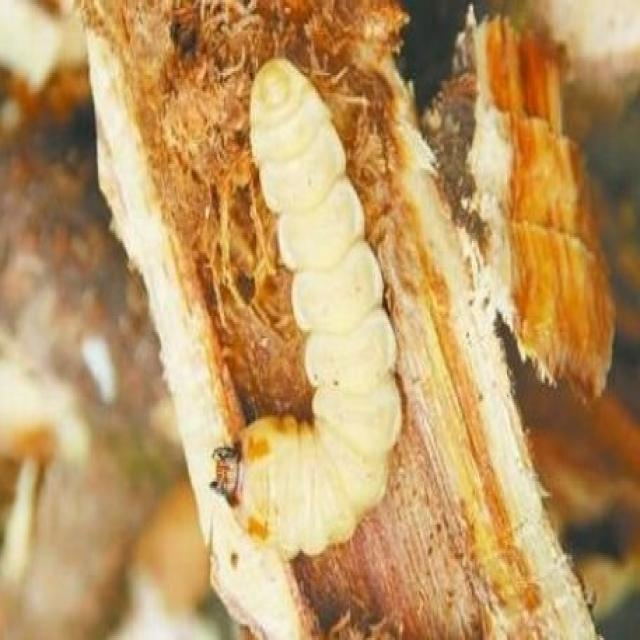peach borer: (201, 57, 409, 577)
